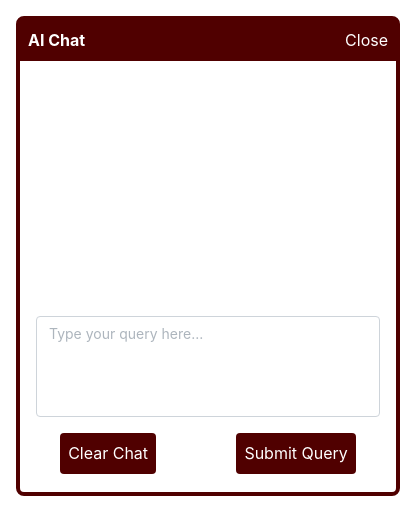
it: AIModal Component › handles successful API response
Type "test query" into the text box with placeholder "Type your query here..." at (208, 366), box [36,316,380,417]
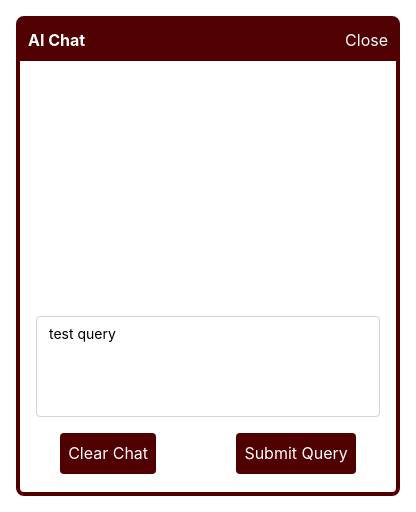
Click the button "Submit Query" at (296, 453), box [236,433,356,474]
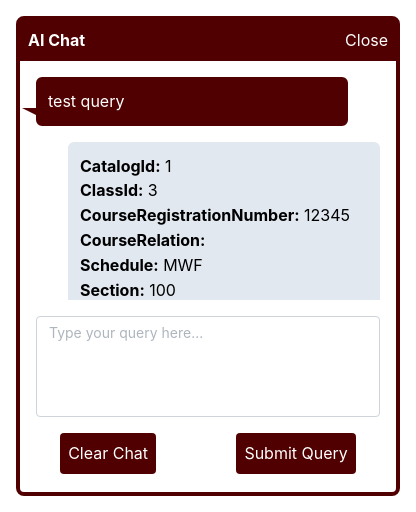
expect the text "test query" is shown: met, box [36,77,348,126]
expect the text "CatalogId:" is shown: met, box [80,156,160,176]
expect the text "Schedule:" is shown: met, box [80,255,159,275]
